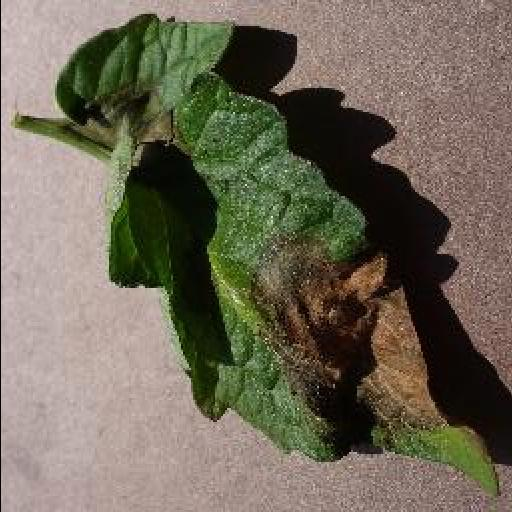disease_tomato: (54, 12, 498, 498)
